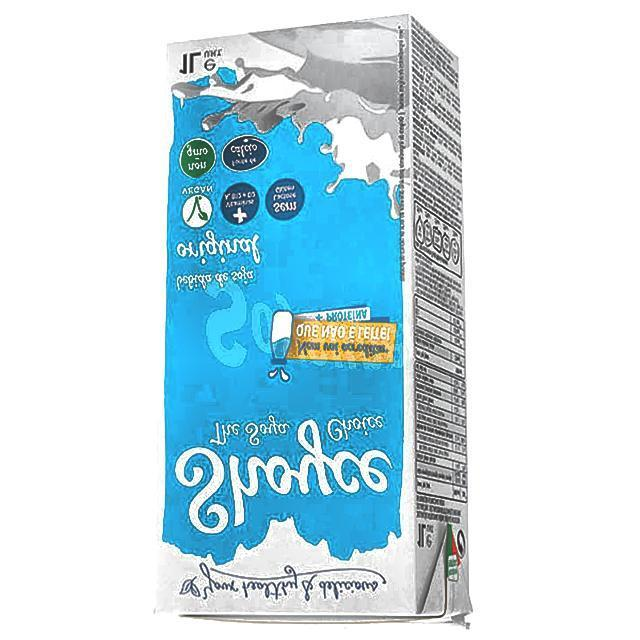cardboard: (155, 13, 471, 626)
